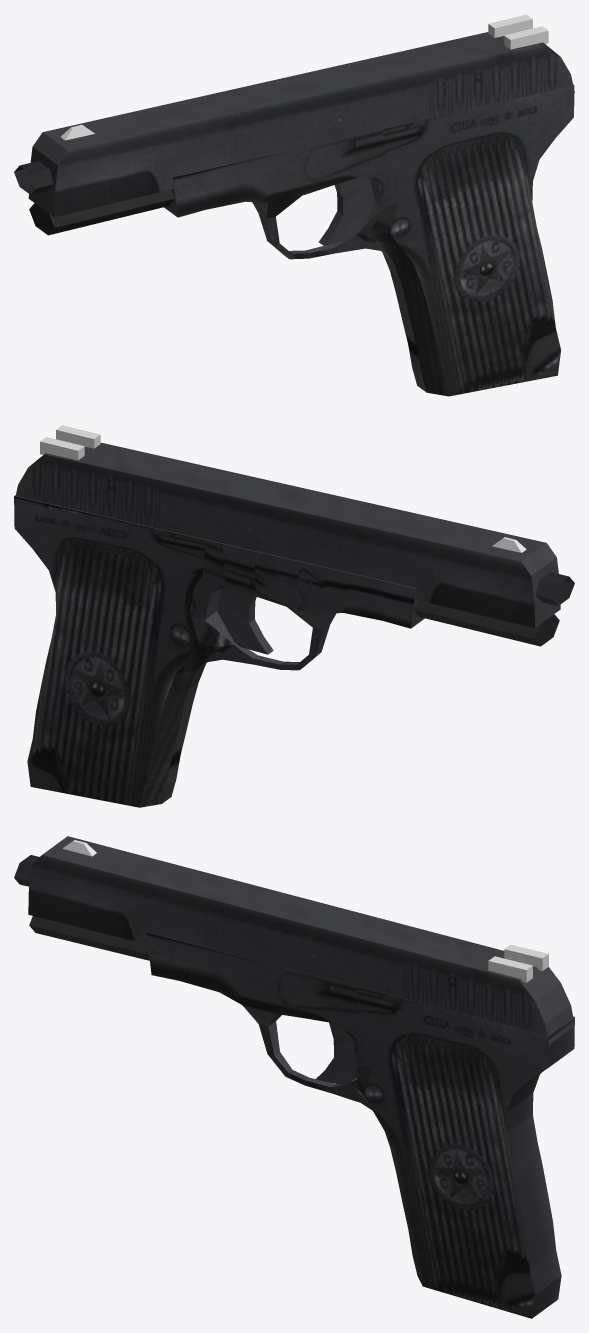
The model's file is Type54.fbx.
3 renders of one model, top to bottom at view 1: azimuth 30°, elevation 25°; view 2: azimuth 150°, elevation 25°; view 3: azimuth 330°, elevation 25°, orthographic.
Visible parts, largest first — view 1: Butt, bulletProcessor, LowerBarrel, Trigger, Cube, Muzzle; view 2: Butt, bulletProcessor, LowerBarrel, Trigger, Cube, Muzzle; view 3: Butt, bulletProcessor, LowerBarrel, Cube, Trigger.
Part boxes in pixels (x1,y1,x2,y2): Butt: (164, 84, 574, 396); bulletProcessor: (28, 32, 574, 217); LowerBarrel: (29, 189, 174, 235); Trigger: (319, 176, 374, 246); Cube: (61, 14, 548, 140); Muzzle: (14, 161, 53, 194); Butt: (14, 495, 424, 807); bulletProcessor: (15, 442, 560, 627); LowerBarrel: (414, 600, 559, 646); Trigger: (217, 587, 273, 654); Cube: (40, 425, 526, 552); Muzzle: (535, 572, 574, 605); Butt: (146, 932, 574, 1318); bulletProcessor: (28, 836, 574, 1044); LowerBarrel: (29, 916, 149, 960); Cube: (63, 840, 548, 982); Trigger: (315, 1022, 357, 1085).
Bounding box in the file's own units: 988 × 620 × 84.5.
